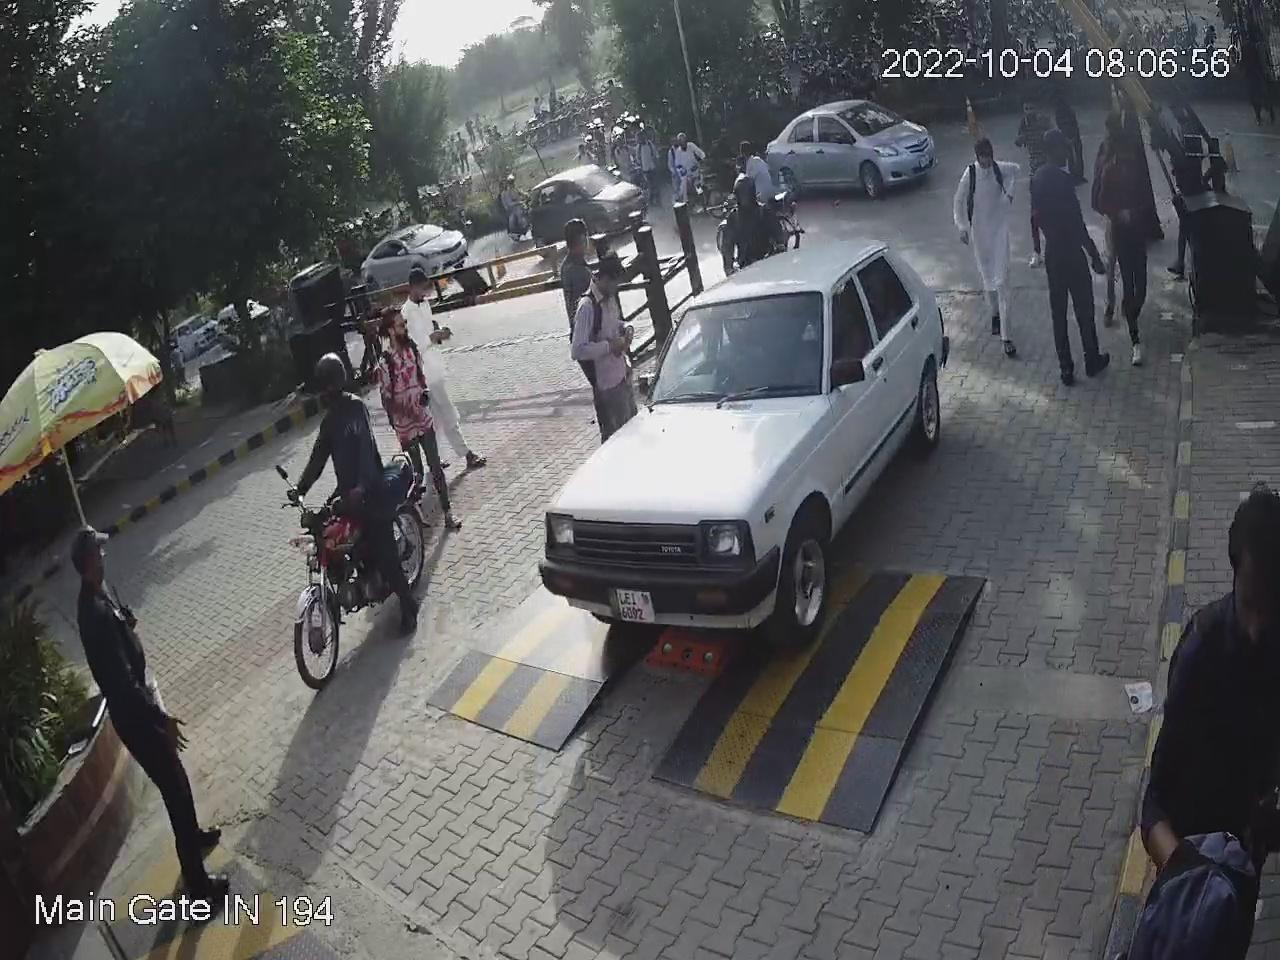windshield: (643, 290, 827, 407)
